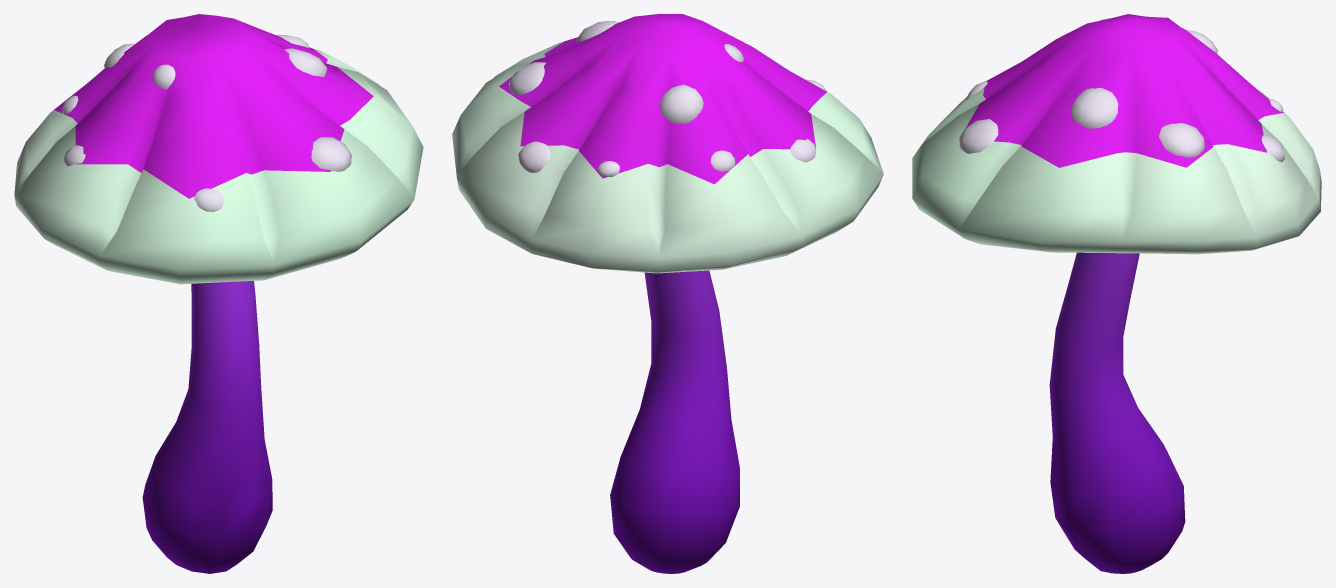
File: Mushroom_0001_0010.fbx
The picture shows the model from 3 angles, left to right: view 1: azimuth 30°, elevation 25°; view 2: azimuth 150°, elevation 25°; view 3: azimuth 270°, elevation 25°; orthographic projection.
Visible parts, largest first — view 1: Mushroom_0001_0010; view 2: Mushroom_0001_0010; view 3: Mushroom_0001_0010.
Boxes of the visible parts, x1=… form: Mushroom_0001_0010: x1=14, y1=14, x2=423, y2=573; Mushroom_0001_0010: x1=452, y1=14, x2=883, y2=573; Mushroom_0001_0010: x1=912, y1=14, x2=1321, y2=573.
Bounding box in the file's own units: 0.1834 × 0.2588 × 0.176.
1 material, 1 textured.
